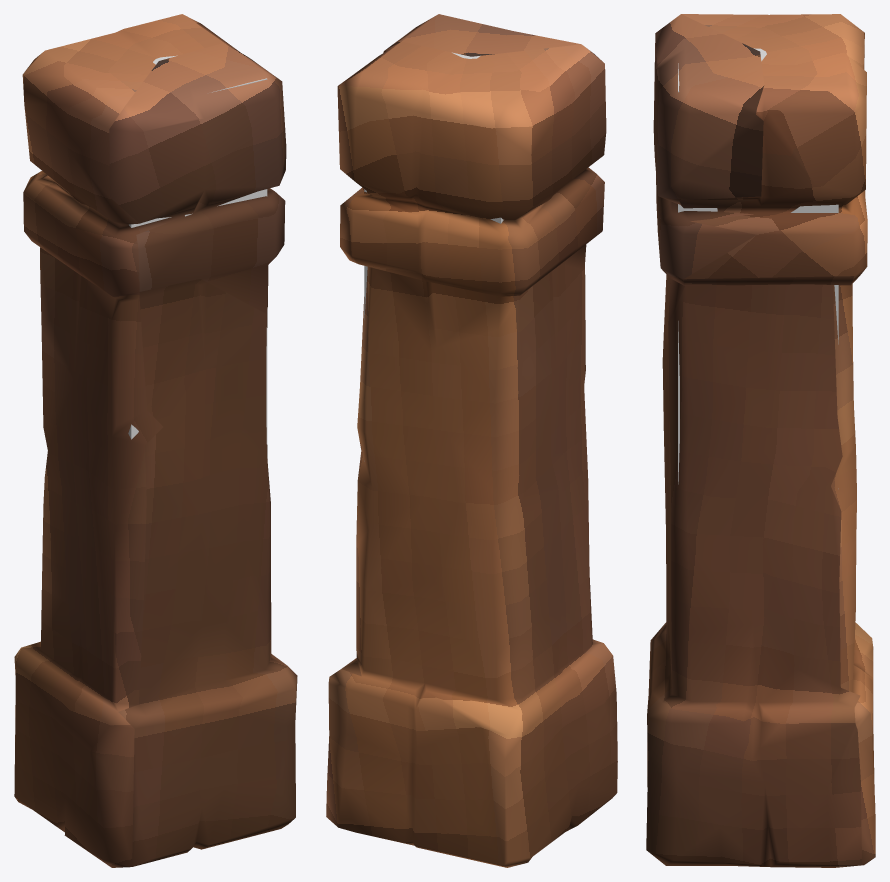
Rendered from wooden_pillar_01.fbx.
3 renders of one model, left to right at view 1: azimuth 30°, elevation 25°; view 2: azimuth 150°, elevation 25°; view 3: azimuth 270°, elevation 25°, orthographic. The views are drawn at different scales.
Parts seen in each view (by area): view 1: wooden_pillar_01, col_mesh; view 2: wooden_pillar_01; view 3: wooden_pillar_01, col_mesh.
Boxes of the visible parts, x1,y1,x2,y2 form: wooden_pillar_01: (14, 14, 297, 867); col_mesh: (128, 55, 267, 458); wooden_pillar_01: (326, 14, 617, 867); wooden_pillar_01: (646, 14, 875, 867); col_mesh: (678, 48, 838, 488).
Size of the model in its own units: 1.36 by 4.92 by 1.32.
